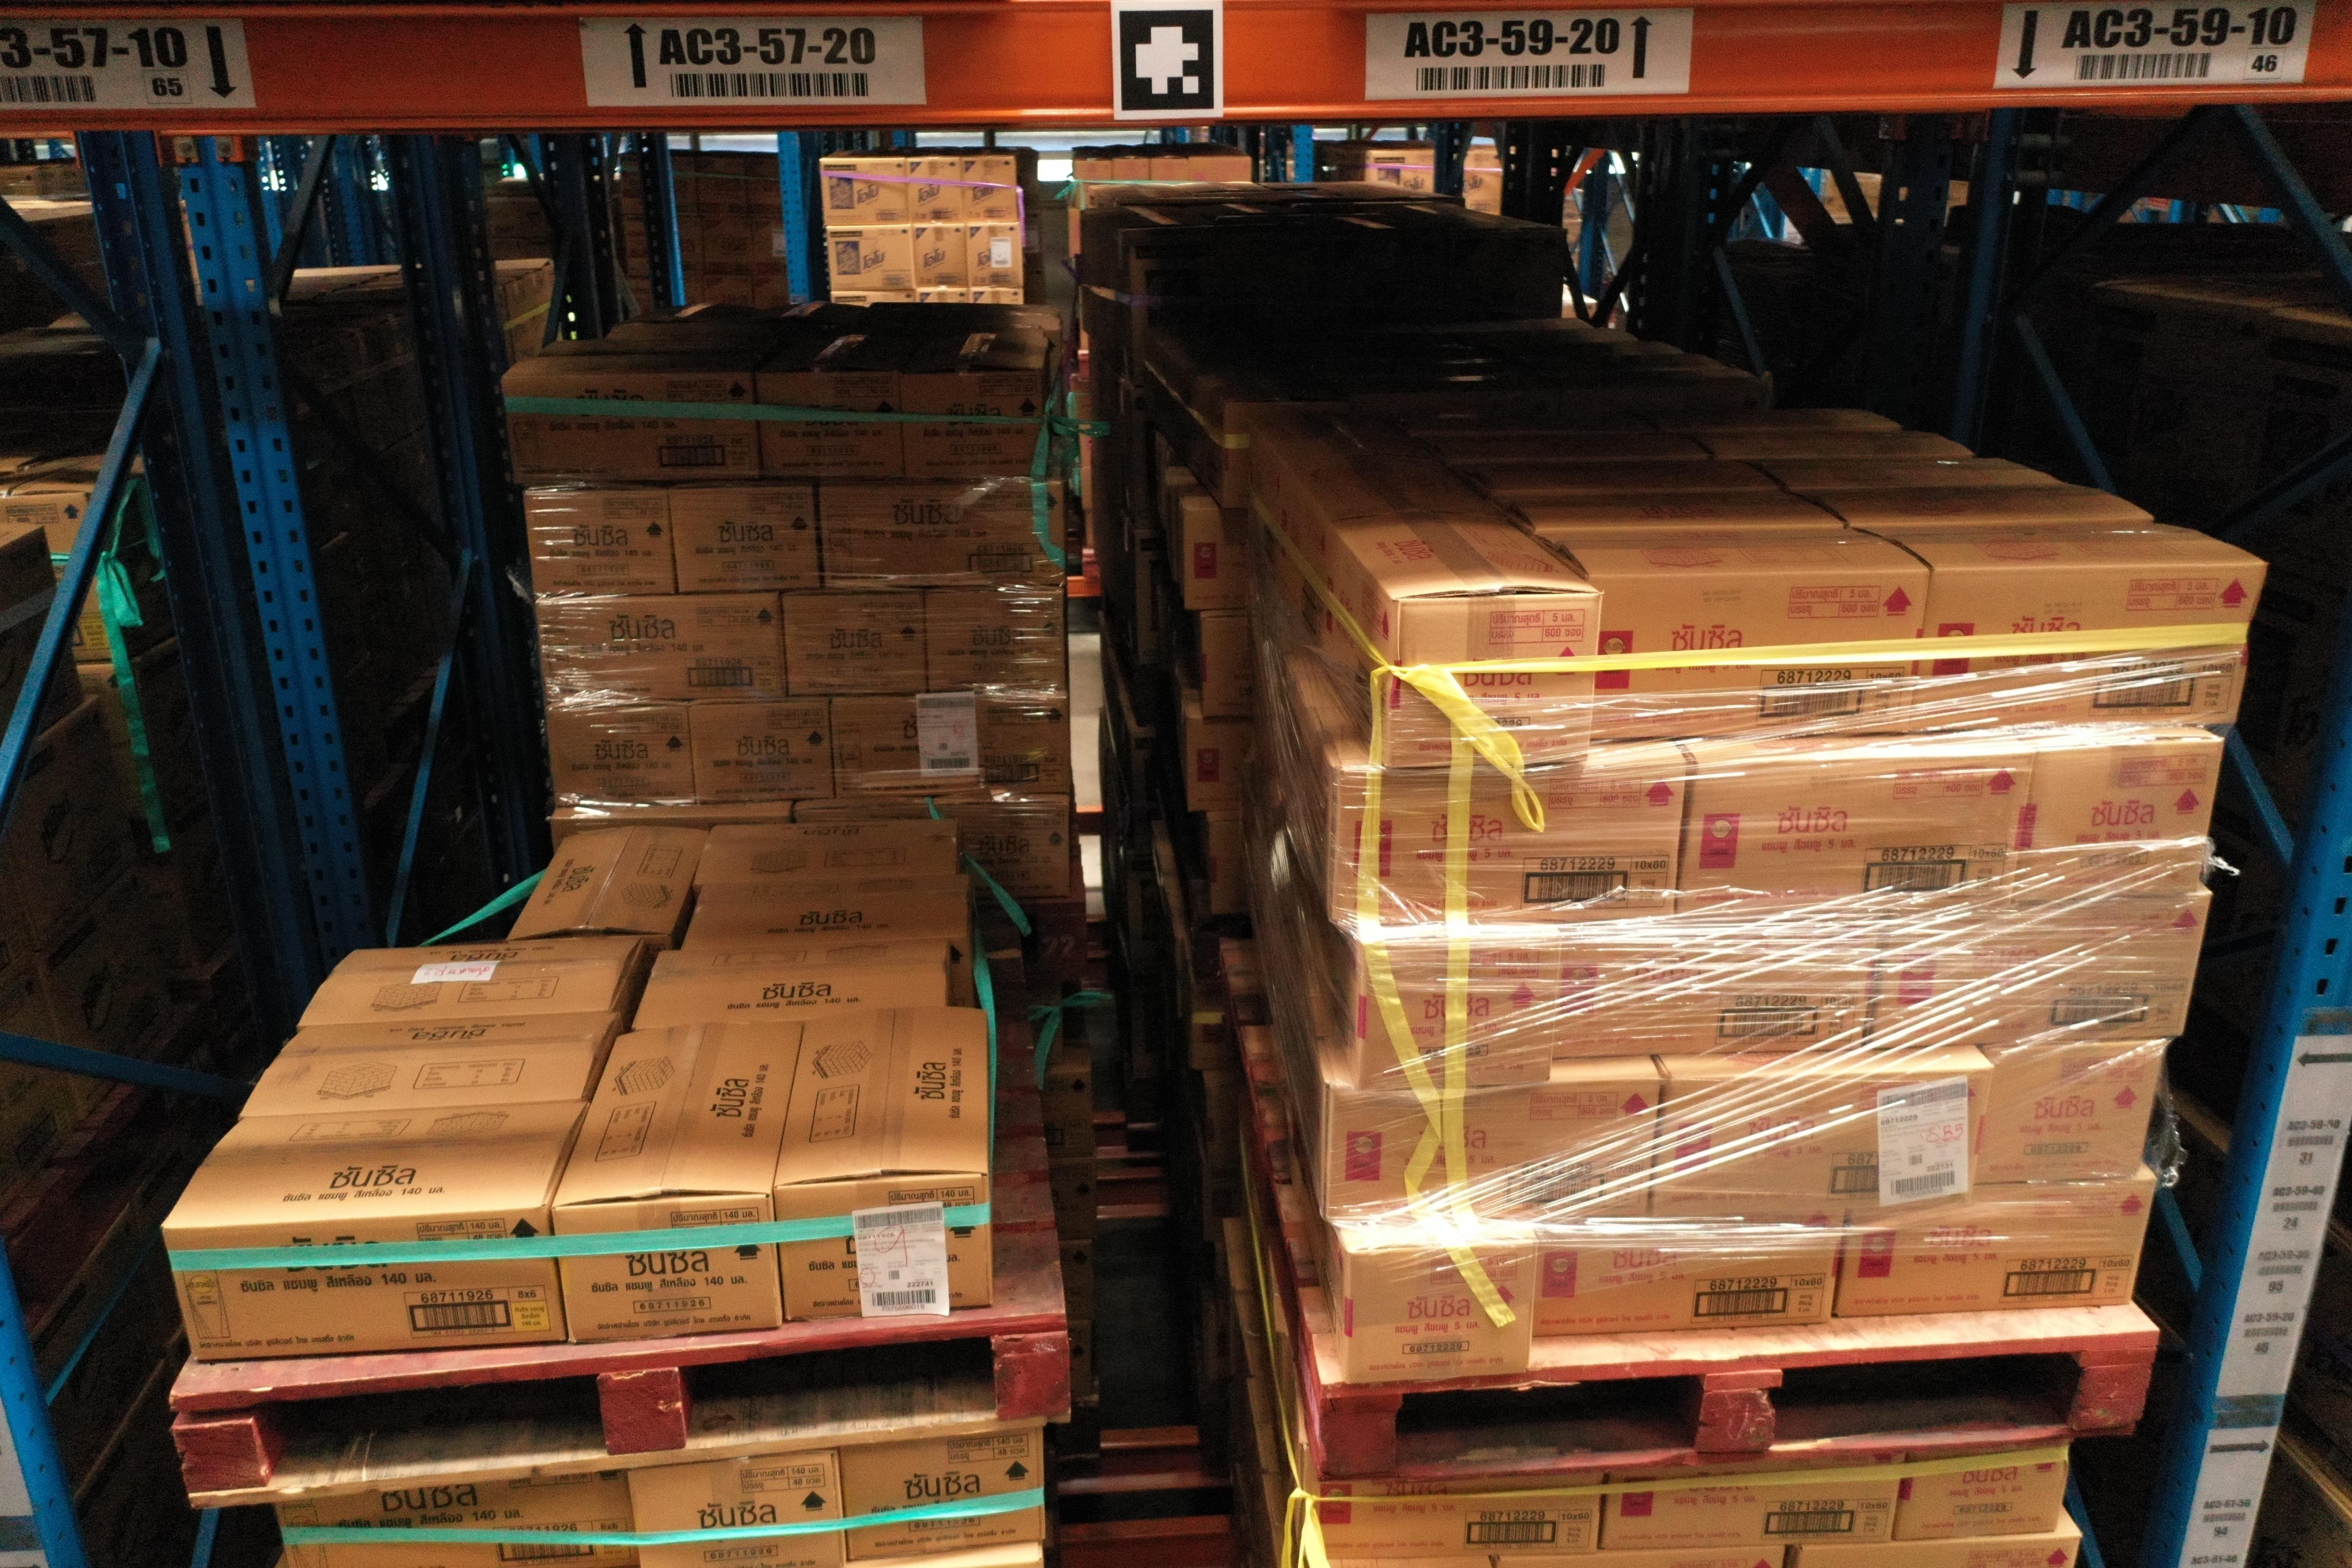-: (159, 1204, 569, 1361), (1678, 751, 2033, 924), (1907, 562, 2266, 731), (1585, 570, 1930, 744), (1330, 766, 1683, 929), (1871, 891, 2212, 1052), (1323, 1080, 1661, 1228), (1648, 1069, 1993, 1214), (1550, 915, 1878, 1060), (1837, 1179, 2158, 1318), (1529, 1206, 1846, 1337), (1388, 590, 1603, 770), (549, 1190, 782, 1347), (278, 1472, 642, 1566), (2012, 742, 2226, 899), (772, 1172, 992, 1325), (1356, 936, 1561, 1090), (1603, 1454, 1907, 1552), (838, 1428, 1046, 1563), (1972, 1041, 2165, 1183), (628, 1444, 847, 1568), (1346, 1246, 1535, 1386), (1311, 1475, 1605, 1563), (1895, 1444, 2068, 1543)
box: (500, 371, 761, 490), (534, 593, 789, 707), (817, 481, 1064, 593), (829, 695, 1071, 800), (667, 485, 822, 595), (521, 490, 675, 600), (896, 369, 1045, 479), (686, 696, 836, 805), (780, 590, 929, 698), (752, 371, 903, 478), (544, 703, 696, 808), (922, 588, 1069, 693), (934, 800, 1069, 901)
